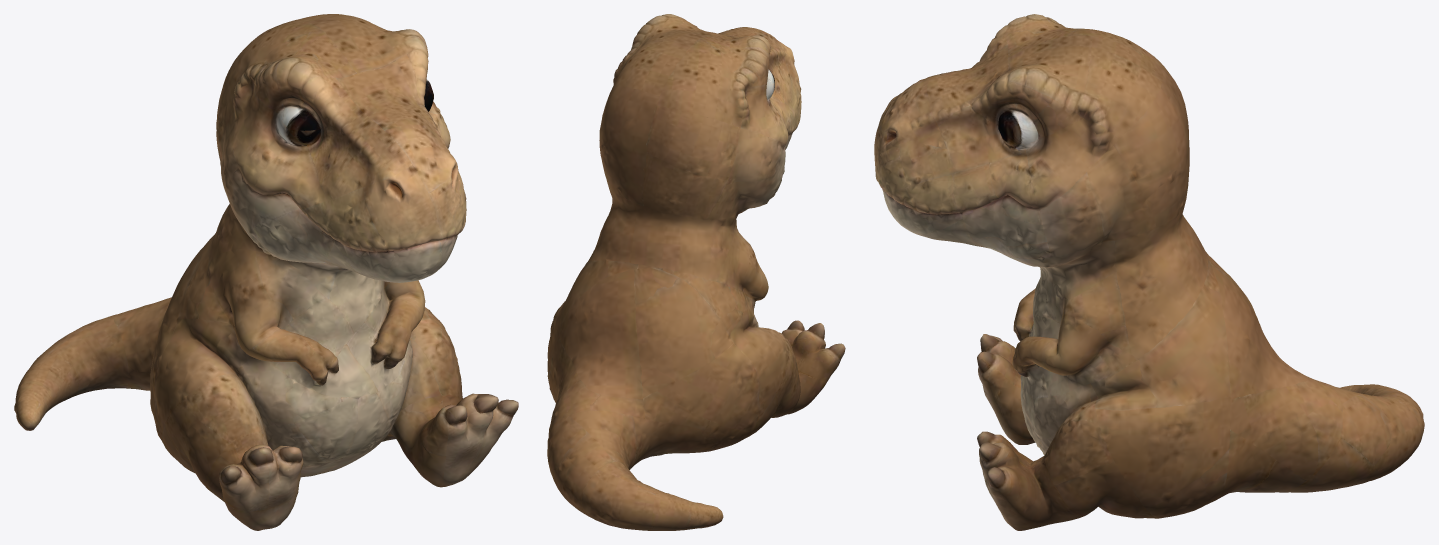
3 views of the same model, side by side, from view 1: azimuth 30°, elevation 25°; view 2: azimuth 150°, elevation 25°; view 3: azimuth 270°, elevation 25° (orthographic). The views are drawn at different scales.
Parts seen in each view (by area): view 1: mesh_node; view 2: mesh_node; view 3: mesh_node.
Boxes of the visible parts, x1,y1,x2,y2 form: mesh_node: (14, 14, 518, 530); mesh_node: (547, 14, 845, 530); mesh_node: (874, 14, 1424, 530).
Bounding box in the file's own units: 1.24 × 1.71 × 1.9.
1 material, 1 textured.
